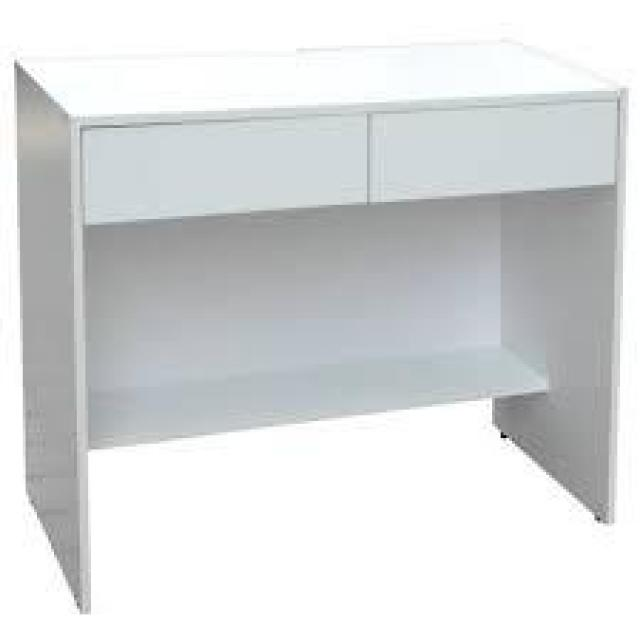table: (9, 33, 628, 596)
